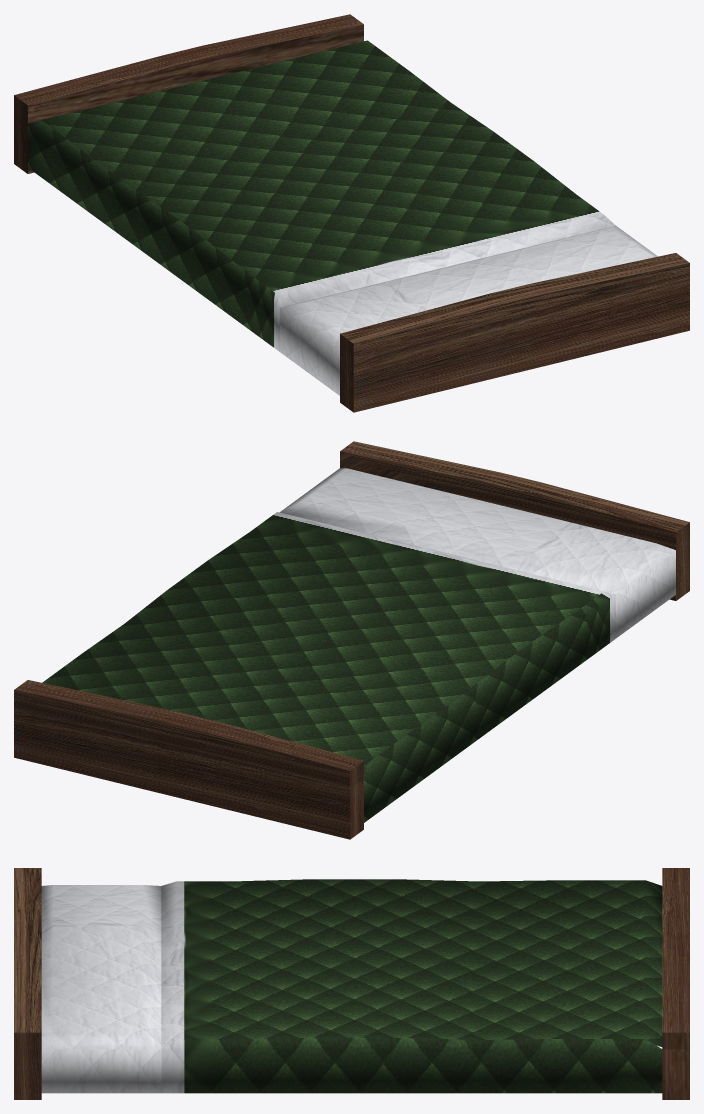
File: bed.FBX
3 views of the same model, one above another, from view 1: azimuth 30°, elevation 25°; view 2: azimuth 150°, elevation 25°; view 3: azimuth 270°, elevation 25° (orthographic).
Visible parts, largest first — view 1: Box001; view 2: Box001; view 3: Box001.
Boxes of the visible parts, left/top/right/bottom form: Box001: left=14, top=14, right=689, bottom=412; Box001: left=14, top=441, right=689, bottom=839; Box001: left=14, top=868, right=689, bottom=1099.
Size of the model in its own units: 40 by 70 by 8.22.
